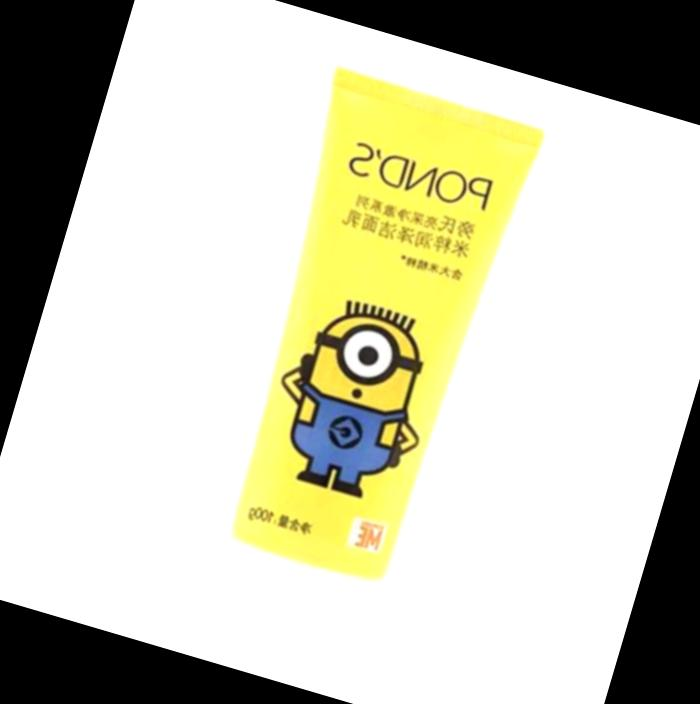cosmetic: (167, 66, 551, 686)
